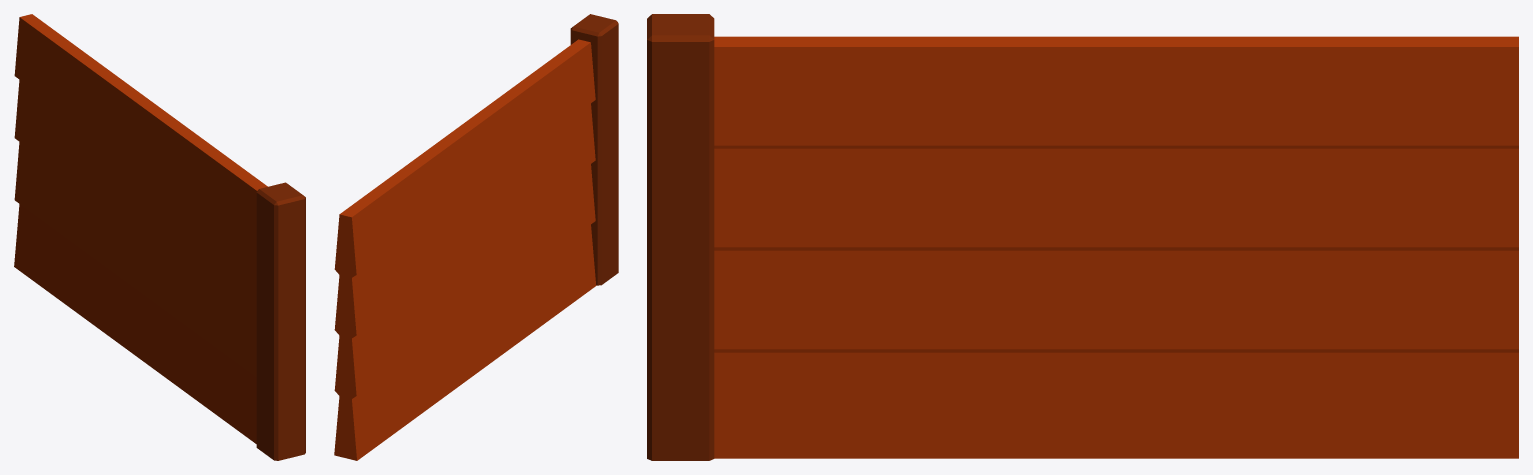
File: NoiseBarrier.fbx
The picture shows the model from 3 angles, left to right: view 1: azimuth 30°, elevation 25°; view 2: azimuth 150°, elevation 25°; view 3: azimuth 270°, elevation 25°; orthographic projection. The views are drawn at different scales.
Visible parts, largest first — view 1: Cube; view 2: Cube; view 3: Cube.
Part boxes in pixels (x1,y1,x2,y2): Cube: (14,14,305,460); Cube: (334,14,618,460); Cube: (647,14,1518,460).
Size of the model in its own units: 38.65 by 300 by 558.
